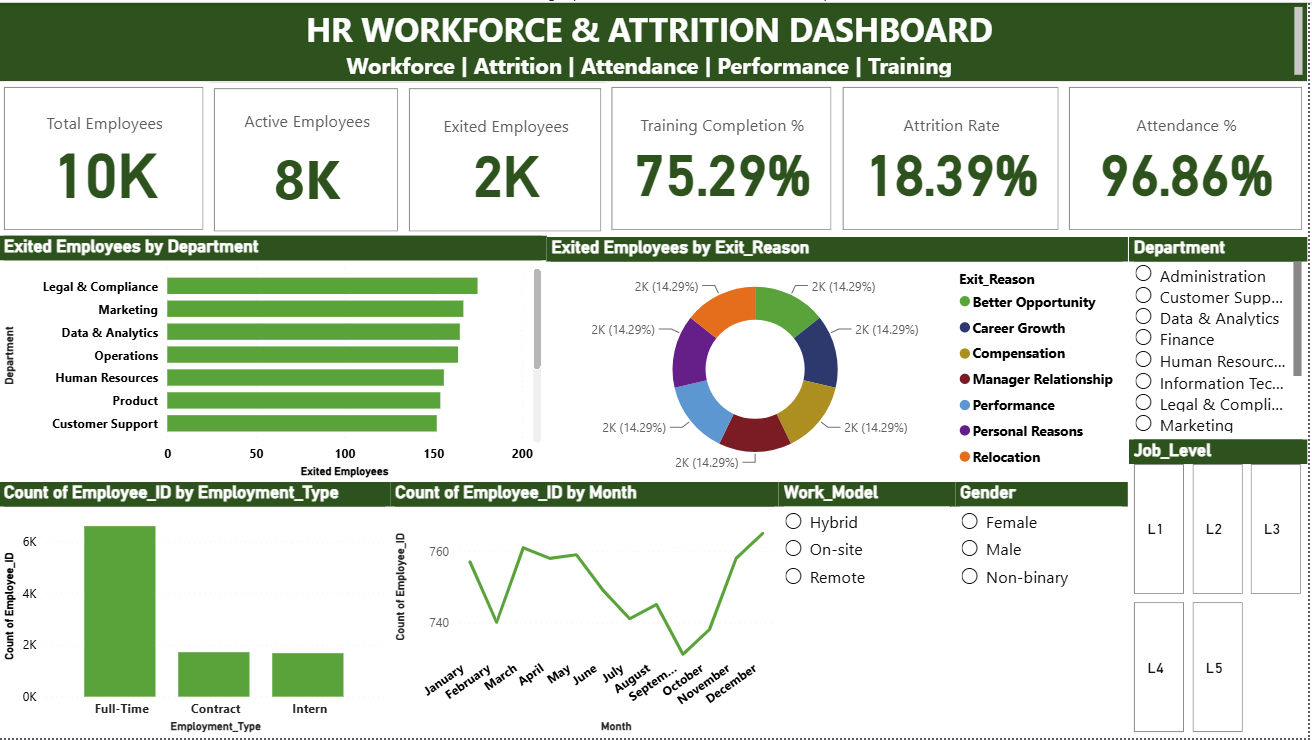

This screenshot's page, from the dashboard's own definition file:
{"tool":"powerbi","page":{"name":"Page 1","canvas":[1280,720],"ordinal":0},"visuals":[{"type":"textbox","box":[0,0,1280,78.6],"z":0},{"type":"cardVisual","fields":{"Data":["_Measures.Total Employees"]},"box":[0,78.6,205.7,150],"z":1000},{"type":"cardVisual","fields":{"Data":["_Measures.Active Employees"]},"box":[205.7,80,190,150],"z":2000},{"type":"cardVisual","fields":{"Data":["_Measures.Exited Employees"]},"box":[395.7,80,198.6,150],"z":3000},{"type":"cardVisual","fields":{"Data":["_Measures.Training Completion %"]},"box":[594.3,78.6,225.7,150],"z":4000},{"type":"cardVisual","fields":{"Data":["_Measures.Attendance %"]},"box":[1041.4,78.6,238.6,150],"z":5000},{"type":"cardVisual","fields":{"Data":["_Measures.Attrition Rate"]},"box":[820,78.6,221.4,150],"z":6000},{"type":"clusteredBarChart","fields":{"Category":["EmployeesTable.Department"],"Y":["_Measures.Exited Employees"]},"box":[0,228.6,535.7,241.4],"z":7000},{"type":"donutChart","fields":{"Category":["exitTable__21.Exit_Reason"],"Y":["_Measures.Exited Employees"]},"box":[535.7,230,568.6,240],"z":8000},{"type":"columnChart","fields":{"Category":["EmployeesTable.Employment_Type"],"Y":["CountNonNull(EmployeesTable.Employee_ID)"]},"box":[0,470,382.9,250],"z":9000},{"type":"lineChart","fields":{"Category":["AttendanceTable.Month.Variation.Date Hierarchy.Month","AttendanceTable.Month.Variation.Date Hierarchy.Day"],"Y":["CountNonNull(AttendanceTable.Employee_ID)"]},"box":[382.9,470,380,250],"z":10000},{"type":"listSlicer","fields":{"Values":["DepartmentsTable.Department"]},"box":[1105.7,230,174.3,198.6],"z":11000},{"type":"advancedSlicerVisual","fields":{"Values":["EmployeesTable.Job_Level"]},"box":[1105.7,428.6,174.3,291.4],"z":12000},{"type":"listSlicer","fields":{"Values":["EmployeesTable.Gender"]},"box":[935.7,470,168.6,250],"z":13000},{"type":"listSlicer","fields":{"Values":["EmployeesTable.Work_Model"]},"box":[762.9,470,172.9,250],"z":14000}]}

Visuals, with their boxes in screenshot pixels (x1, y1, x2, y2), scaled from the page's 1280x720 canvas onto the 1312x740 screenshot:
textbox: l=0, t=0, r=1311, b=81
cardVisual - _Measures.Total Employees: l=0, t=81, r=211, b=235
cardVisual - _Measures.Active Employees: l=211, t=82, r=406, b=236
cardVisual - _Measures.Exited Employees: l=406, t=82, r=609, b=236
cardVisual - _Measures.Training Completion %: l=609, t=81, r=840, b=235
cardVisual - _Measures.Attendance %: l=1067, t=81, r=1311, b=235
cardVisual - _Measures.Attrition Rate: l=840, t=81, r=1067, b=235
clusteredBarChart - EmployeesTable.Department x _Measures.Exited Employees: l=0, t=235, r=549, b=483
donutChart - exitTable__21.Exit_Reason x _Measures.Exited Employees: l=549, t=236, r=1132, b=483
columnChart - EmployeesTable.Employment_Type x CountNonNull(EmployeesTable.Employee_ID): l=0, t=483, r=392, b=739
lineChart - AttendanceTable.Month.Variation.Date Hierarchy.Month x AttendanceTable.Month.Variation.Date Hierarchy.Day: l=392, t=483, r=782, b=739
listSlicer - DepartmentsTable.Department: l=1133, t=236, r=1311, b=441
advancedSlicerVisual - EmployeesTable.Job_Level: l=1133, t=441, r=1311, b=739
listSlicer - EmployeesTable.Gender: l=959, t=483, r=1132, b=739
listSlicer - EmployeesTable.Work_Model: l=782, t=483, r=959, b=739
